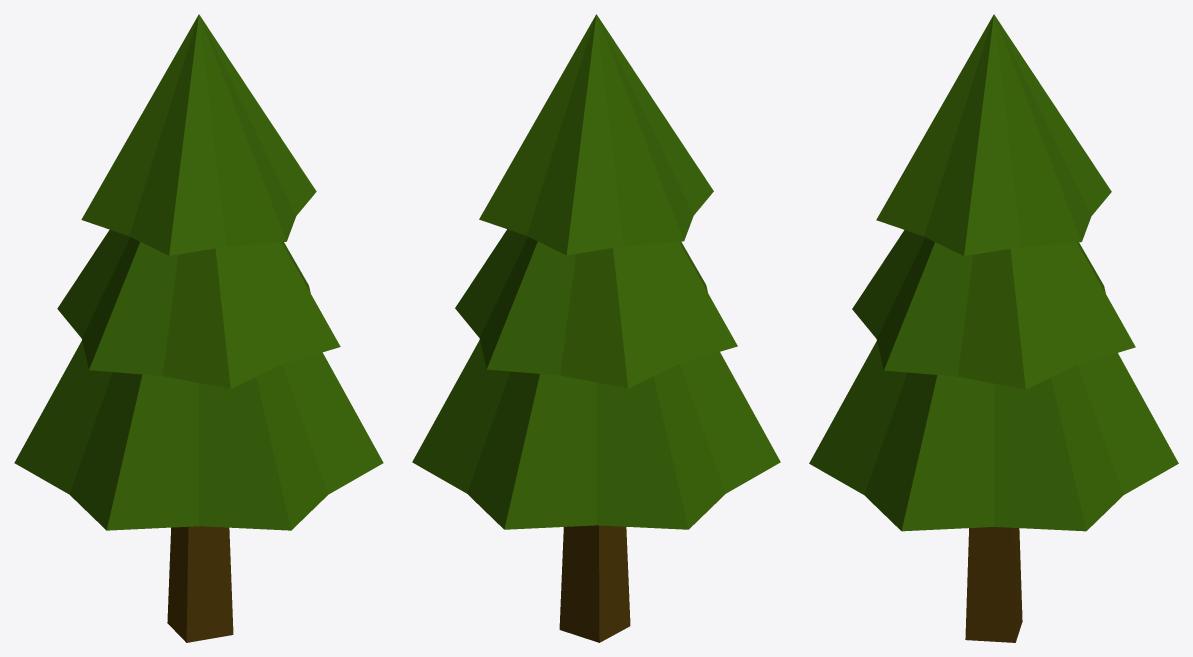
The model's file is weebltreesharp.fbx.
The picture shows the model from 3 angles, left to right: view 1: azimuth 30°, elevation 25°; view 2: azimuth 150°, elevation 25°; view 3: azimuth 270°, elevation 25°; orthographic projection.
Parts seen in each view (by area): view 1: polySurface6; view 2: polySurface6; view 3: polySurface6.
Part boxes in pixels (x1,y1,x2,y2): polySurface6: (14,14,383,642); polySurface6: (412,14,780,642); polySurface6: (809,14,1178,642).
Size of the model in its own units: 118 by 251 by 137.
